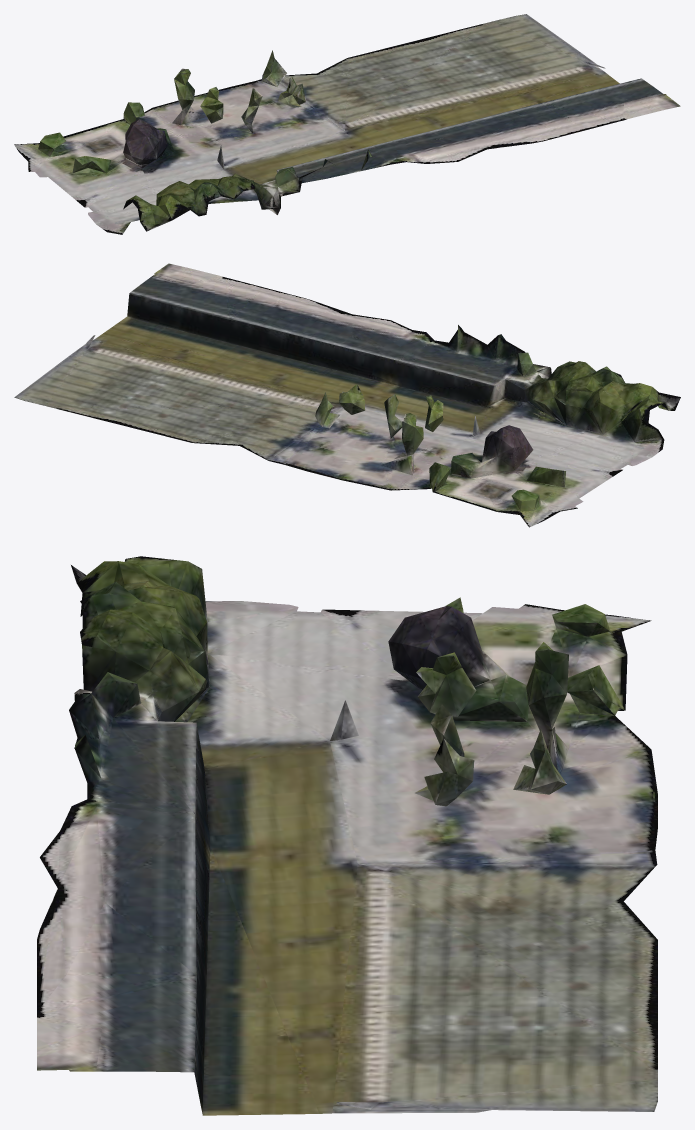
3 renders of one model, top to bottom at view 1: azimuth 30°, elevation 25°; view 2: azimuth 150°, elevation 25°; view 3: azimuth 270°, elevation 25°, orthographic. The views are drawn at different scales.
Size of the model in its own units: 111 by 11.69 by 55.95.
1 material, 1 textured.
